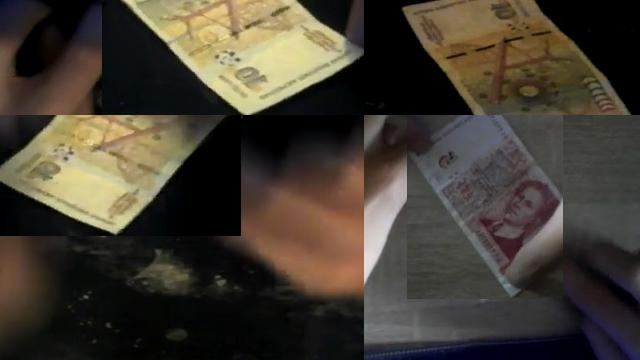10leva: (116, 0, 364, 115), (0, 115, 233, 236), (401, 0, 633, 115)
5leva: (407, 115, 563, 299)
